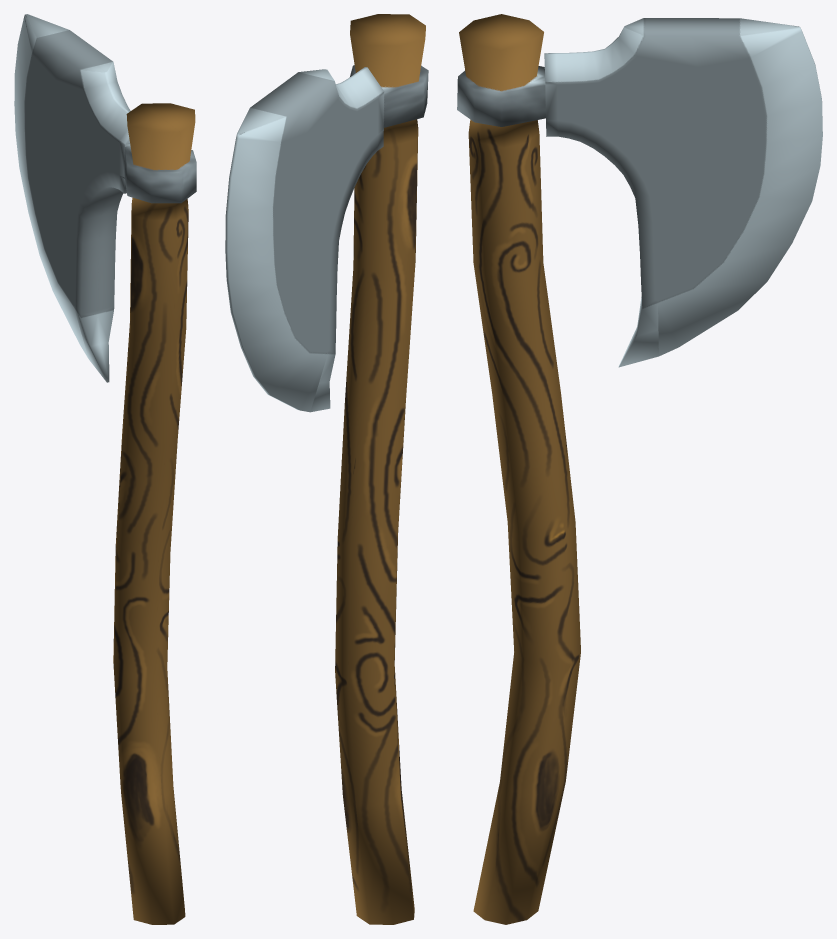
Rendered from axeV3.fbx.
The picture shows the model from 3 angles, left to right: view 1: azimuth 30°, elevation 25°; view 2: azimuth 150°, elevation 25°; view 3: azimuth 270°, elevation 25°; orthographic projection. The views are drawn at different scales.
Visible parts, largest first — view 1: axeV3; view 2: axeV3; view 3: axeV3.
Boxes of the visible parts, left/top/right/bottom form: axeV3: left=14, top=14, right=196, bottom=924; axeV3: left=225, top=14, right=428, bottom=924; axeV3: left=457, top=14, right=822, bottom=924.
Size of the model in its own units: 5.28 by 59.93 by 22.46.
